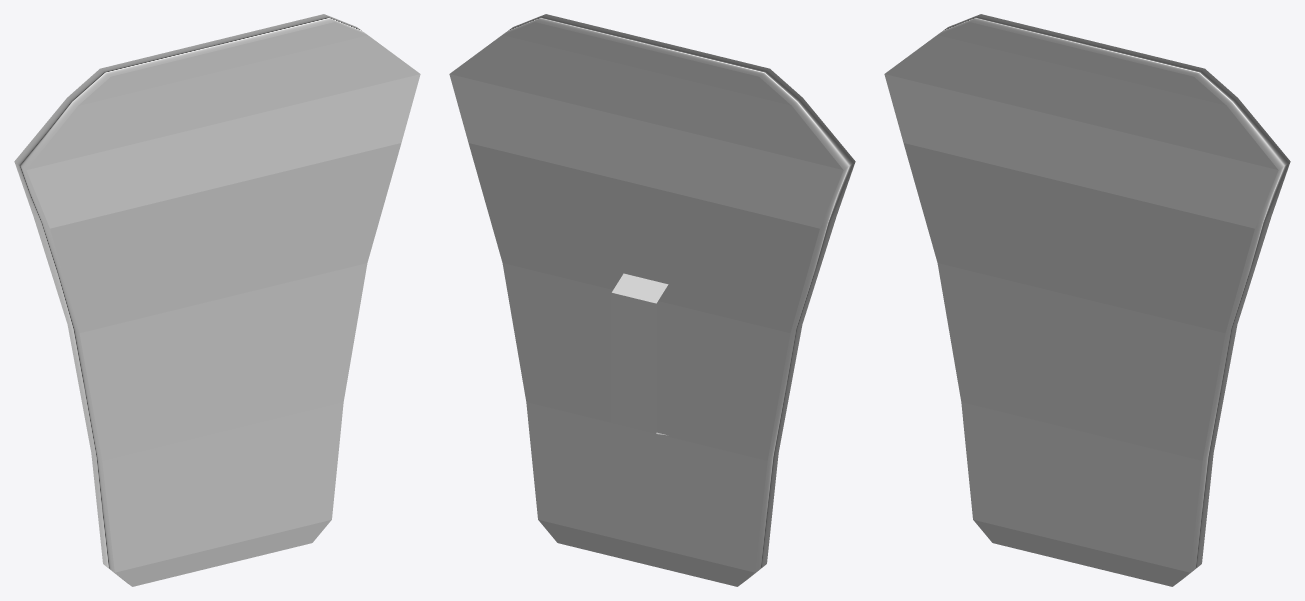
The model's file is yayoi_s_tedate_a.dae.
3 renders of one model, left to right at view 1: azimuth 30°, elevation 25°; view 2: azimuth 150°, elevation 25°; view 3: azimuth 330°, elevation 25°, orthographic.
Visible parts, largest first — view 1: shield_tedate_a; view 2: shield_tedate_a; view 3: shield_tedate_a.
Boxes of the visible parts, box(x1,y1,x2,y2) form: shield_tedate_a: box(14, 14, 420, 586); shield_tedate_a: box(449, 14, 855, 586); shield_tedate_a: box(884, 14, 1290, 586).
Bounding box in the file's own units: 1.41 × 0.1658 × 1.77.
